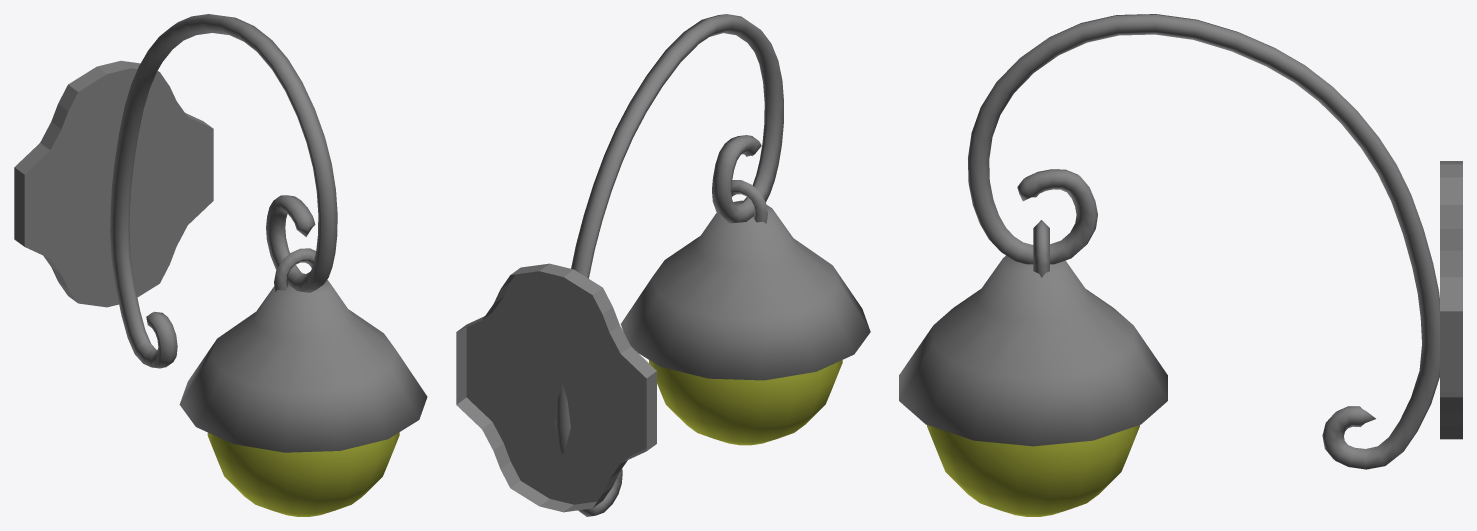
The model's file is SM_lamp_wall_03.fbx.
3 views of the same model, side by side, from view 1: azimuth 30°, elevation 25°; view 2: azimuth 150°, elevation 25°; view 3: azimuth 270°, elevation 25° (orthographic). The views are drawn at different scales.
Parts seen in each view (by area): view 1: Plane057; view 2: Plane057; view 3: Plane057.
Boxes of the visible parts, <box> form: Plane057: <box>14,14,427,516</box>; Plane057: <box>456,14,870,516</box>; Plane057: <box>899,14,1462,516</box>.
Bounding box in the file's own units: 16.44 × 32.33 × 33.62.
